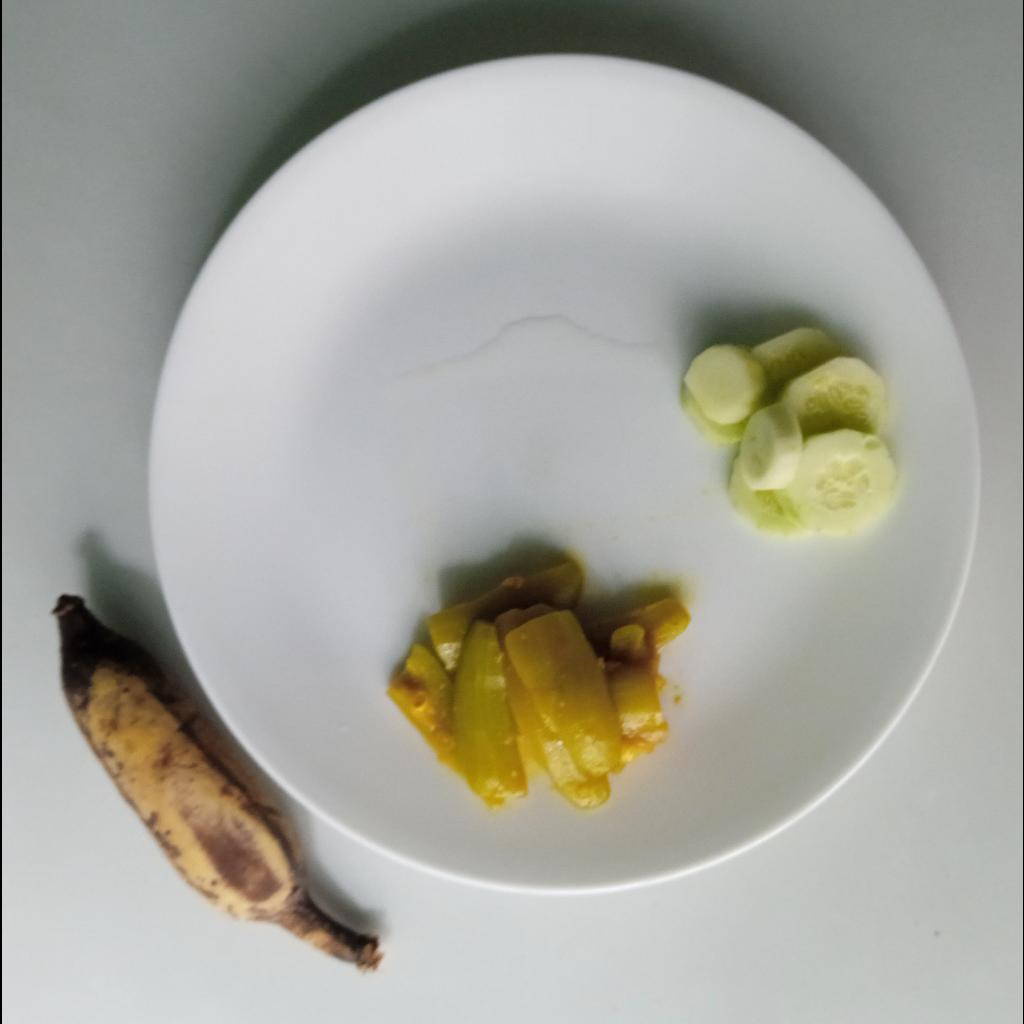banana: (50, 589, 386, 976)
cucumber: (679, 322, 901, 536)
potol: (383, 557, 692, 814)
